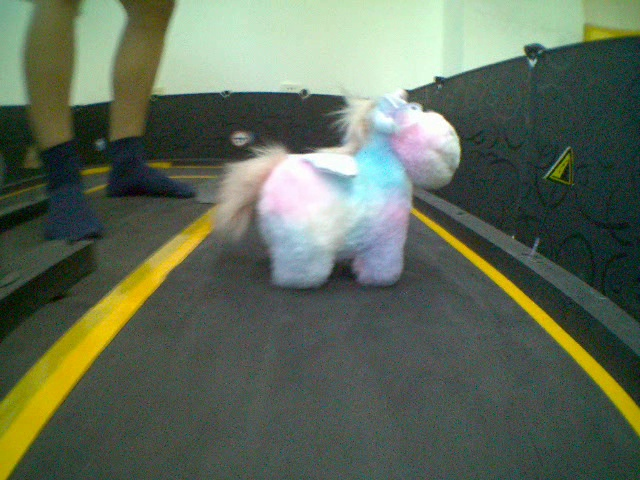unicorn: (209, 88, 459, 290)
